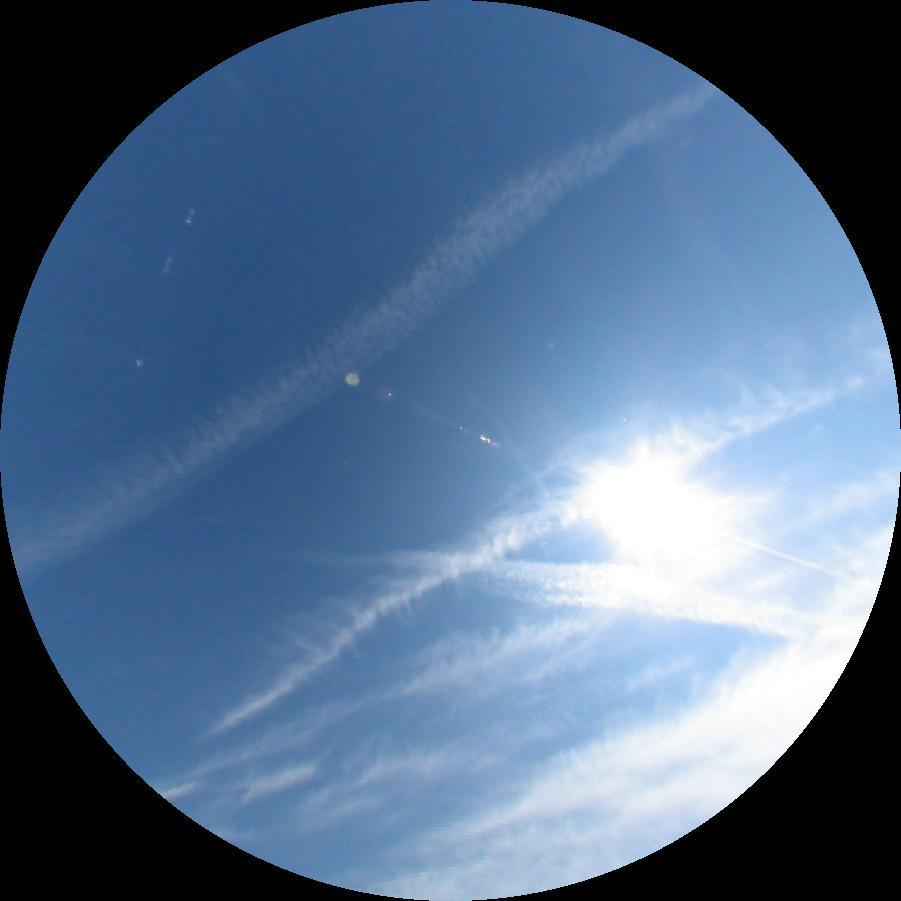contrail veryold: (0, 45, 727, 605), (169, 307, 891, 739), (291, 521, 830, 644)
parasite: (133, 131, 223, 366), (705, 523, 878, 592), (24, 509, 284, 524)
sun: (607, 451, 722, 553)
